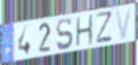2: (38, 21, 52, 53)
4: (17, 24, 33, 57)
H: (74, 13, 94, 49)
S: (55, 17, 74, 52)
V: (114, 6, 134, 41)
Z: (95, 10, 113, 45)
